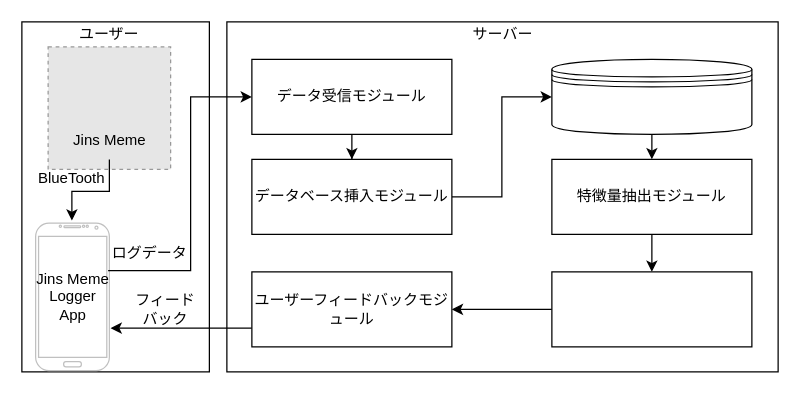
Image size: 800x394. Some labels were removed from this diagram. Grey dashed boxes stand in for pictures. The shapes that lost their labels are listed below. From the top down, each one's box as (x1, y1, x2, y2) in pixels, then its label:
(551, 58, 752, 134): データベース(SQLite)
(551, 271, 752, 347): 機械学習モデル構築モジュール
